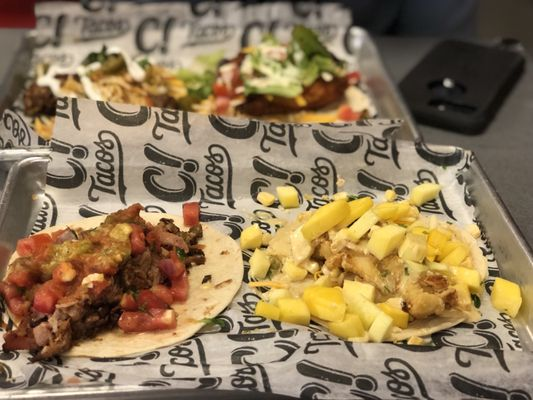curry: (239, 24, 356, 108)
